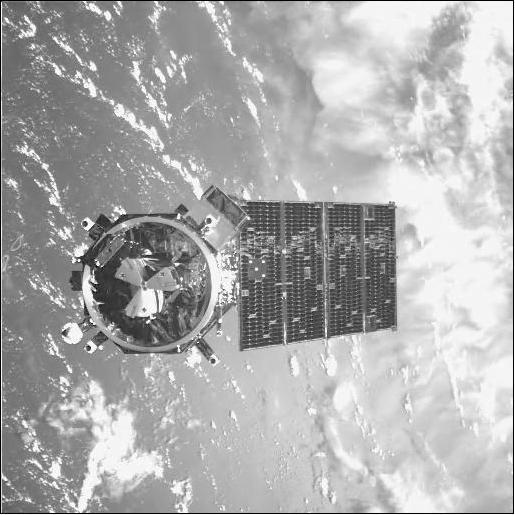antenna: (61, 322, 84, 345)
body: (79, 208, 236, 355)
solar: (235, 195, 400, 354)
thruster: (84, 342, 92, 355), (204, 215, 213, 226), (80, 219, 90, 228), (209, 356, 218, 365)
